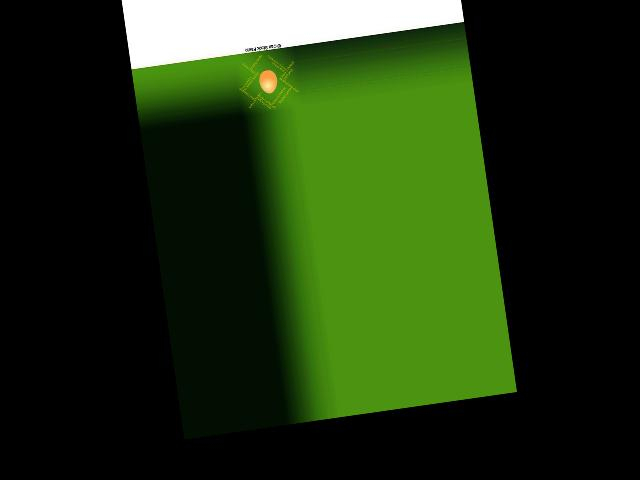egg: (257, 68, 278, 94)
